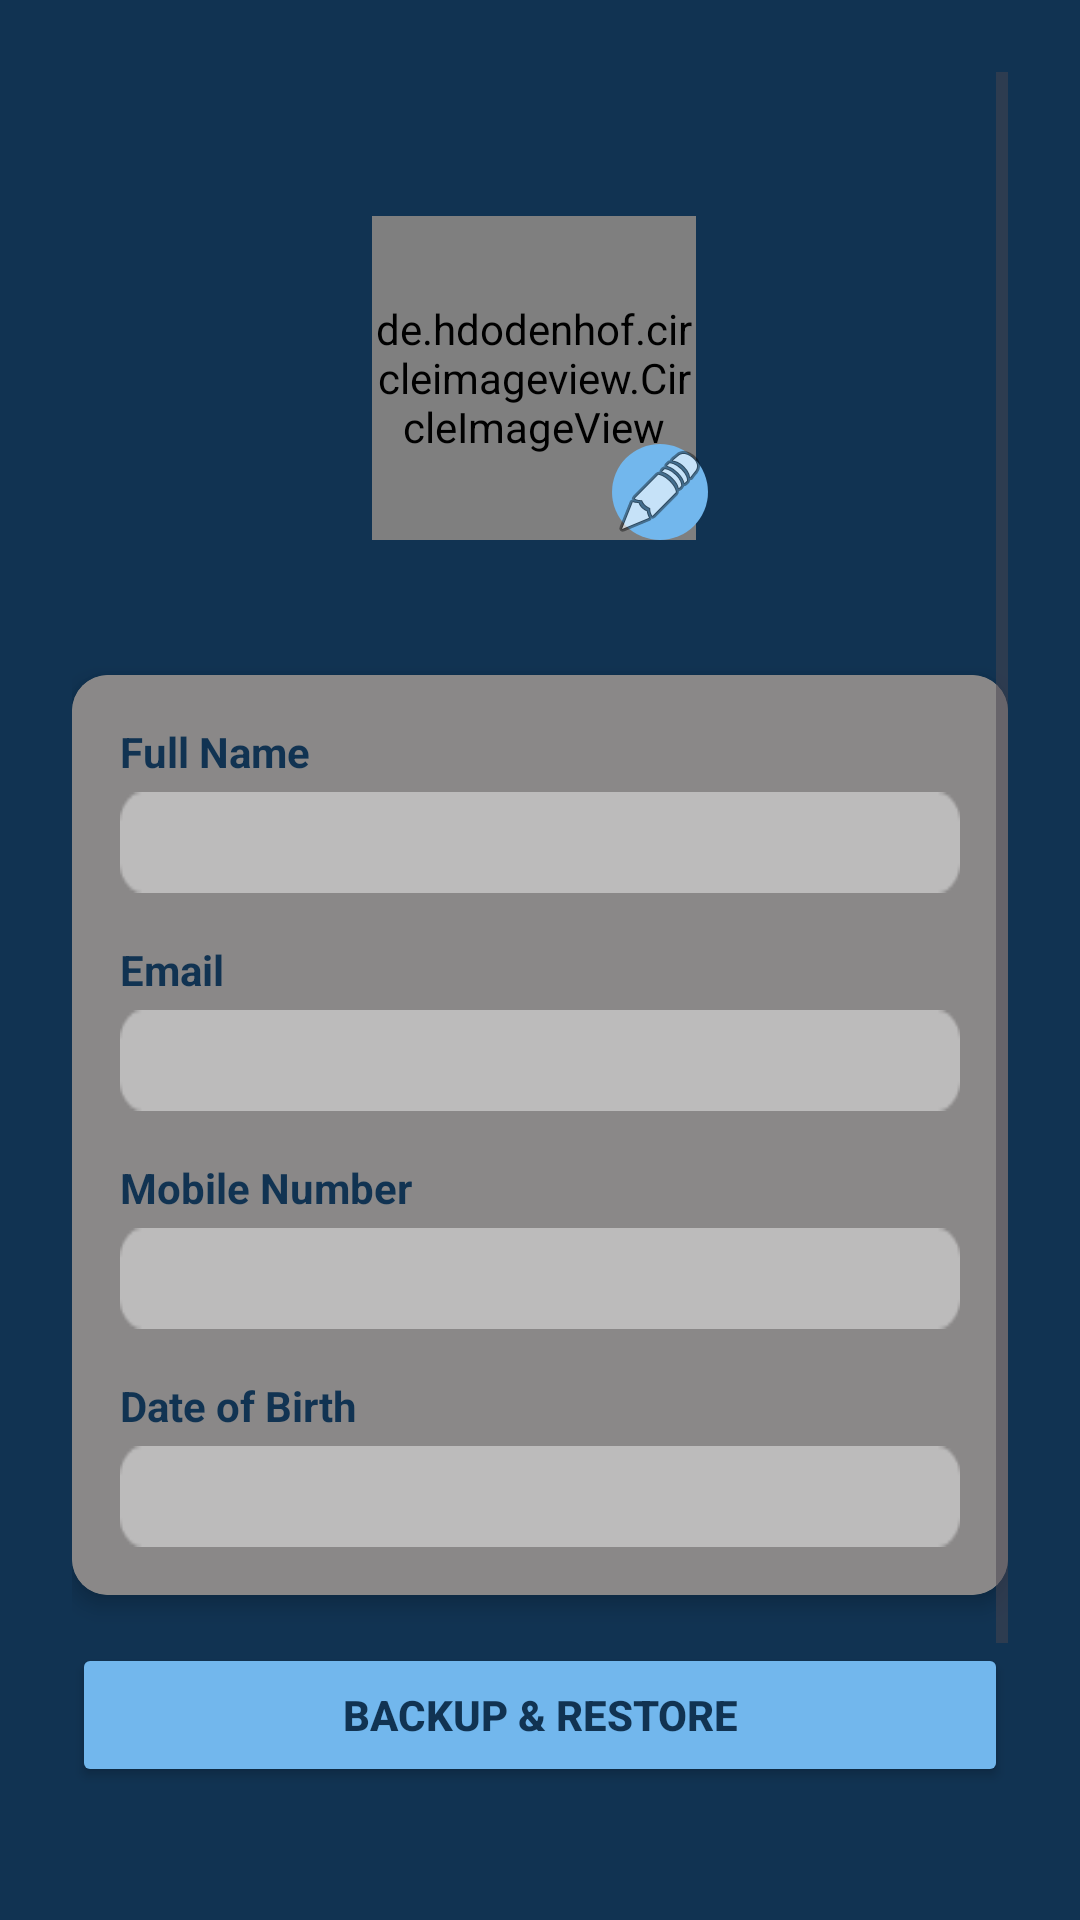

Named icons in this screenshot (1080x1920) and their centers, (x=x, y=y):
edit: (x=660, y=492)
